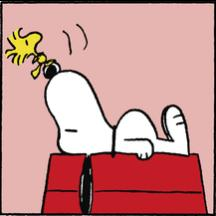snoopy: (42, 60, 190, 214)
